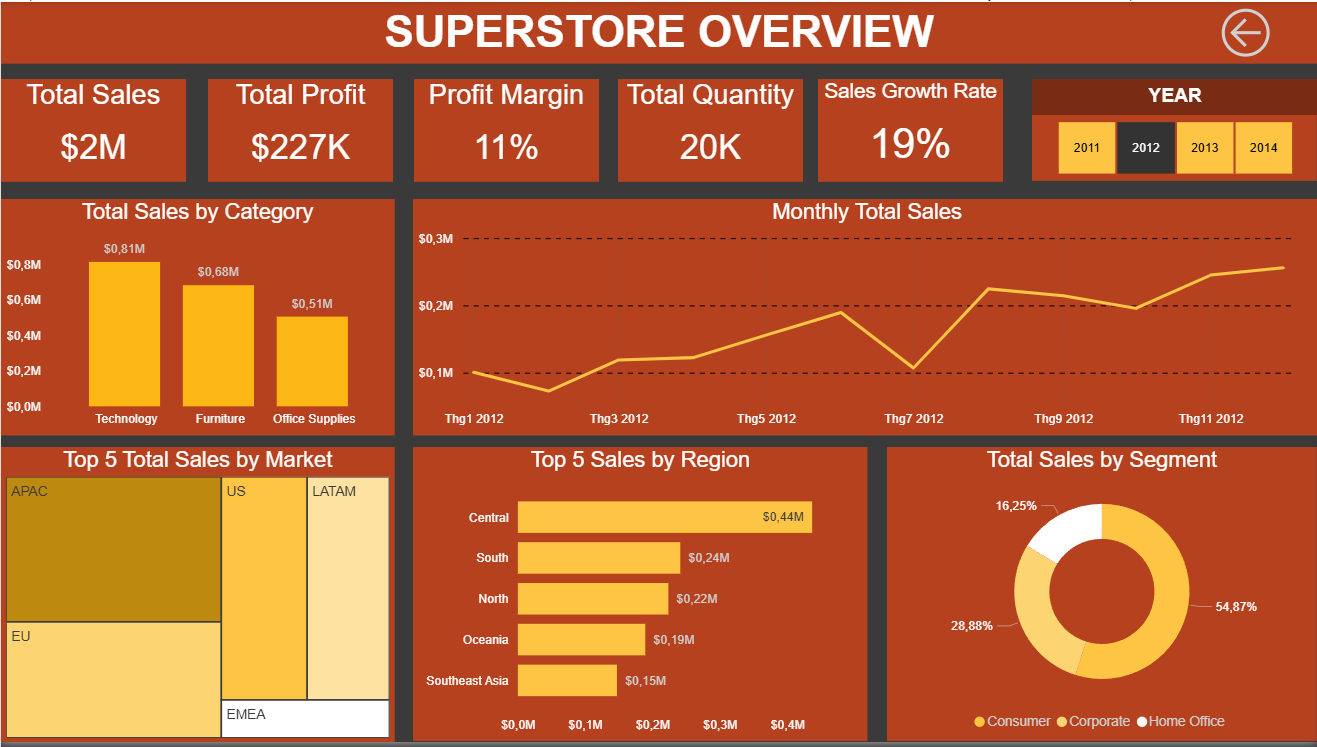

Layout of this report page (visuals, bound fields, positions):
{"tool":"powerbi","page":{"name":"Overview","canvas":[1280,720],"ordinal":0},"visuals":[{"type":"textbox","box":[0,0,1280,59.7],"z":0},{"type":"card","title":"Total Sales","fields":{"Values":["Sum(Orders.Sales)"]},"box":[0,75,180,100],"z":1000},{"type":"card","title":"Total Profit","fields":{"Values":["Sum(Orders.Profit)"]},"box":[201.7,75,180,100],"z":2000},{"type":"card","title":"Profit Margin","fields":{"Values":["_Measure.ProfitMargin"]},"box":[401.7,75,180,100],"z":3000},{"type":"card","title":"Total Quantity","fields":{"Values":["Sum(Orders.Quantity)"]},"box":[600,75,180,100],"z":4000},{"type":"clusteredBarChart","title":"Top 5 Sales by Region","fields":{"Category":["Orders.Region"],"Y":["Sum(Orders.Sales)"]},"box":[401.1,433.3,442.5,286.3],"z":5000},{"type":"donutChart","title":"Total Sales by Segment","fields":{"Y":["Sum(Orders.Sales)"],"Category":["Orders.Segment"]},"box":[862,433.3,418,286.3],"z":6000},{"type":"treemap","title":"Top 5 Total Sales by Market","fields":{"Group":["Orders.Market"],"Values":["Sum(Orders.Sales)"]},"box":[0,433.3,382.8,287.8],"z":7000},{"type":"lineChart","title":"Monthly Total Sales","fields":{"Y":["Sum(Orders.Sales)"],"Category":["Orders.Order Date.Variation.Date Hierarchy.Year","Orders.Order Date.Variation.Date Hierarchy.Month"]},"box":[401.1,191.4,883.4,229.7],"z":8000},{"type":"slicer","fields":{"Values":["Orders.Order Date.Variation.Date Hierarchy.Year"]},"box":[1002.9,110.2,277.1,64.3],"z":9000},{"type":"clusteredColumnChart","title":"Total Sales by Category","fields":{"Category":["Orders.Category"],"Y":["Sum(Orders.Sales)"]},"box":[0,191.4,382.8,229.7],"z":10000},{"type":"card","title":"Sales Growth Rate","fields":{"Values":["_Measure.Sales YoY%"]},"box":[795,75,180,100],"z":11000},{"type":"textbox","box":[1002.9,75,278.7,35.2],"z":12000},{"type":"actionButton","box":[1180.5,0,99.5,59.7],"z":13000}]}

Visuals, with their boxes in screenshot pixels (x1, y1, x2, y2), scaled from the page's 1280x720 canvas onto the 1317x747 screenshot:
textbox: bbox(0, 0, 1316, 62)
"Total Sales" card: bbox(0, 78, 185, 182)
"Total Profit" card: bbox(208, 78, 393, 182)
"Profit Margin" card: bbox(413, 78, 599, 182)
"Total Quantity" card: bbox(617, 78, 803, 182)
"Top 5 Sales by Region" clusteredBarChart: bbox(413, 450, 868, 746)
"Total Sales by Segment" donutChart: bbox(887, 450, 1316, 746)
"Top 5 Total Sales by Market" treemap: bbox(0, 450, 394, 746)
"Monthly Total Sales" lineChart: bbox(413, 199, 1316, 437)
slicer - Orders.Order Date.Variation.Date Hierarchy.Year: bbox(1032, 114, 1316, 181)
"Total Sales by Category" clusteredColumnChart: bbox(0, 199, 394, 437)
"Sales Growth Rate" card: bbox(818, 78, 1003, 182)
textbox: bbox(1032, 78, 1316, 114)
actionButton: bbox(1215, 0, 1316, 62)
